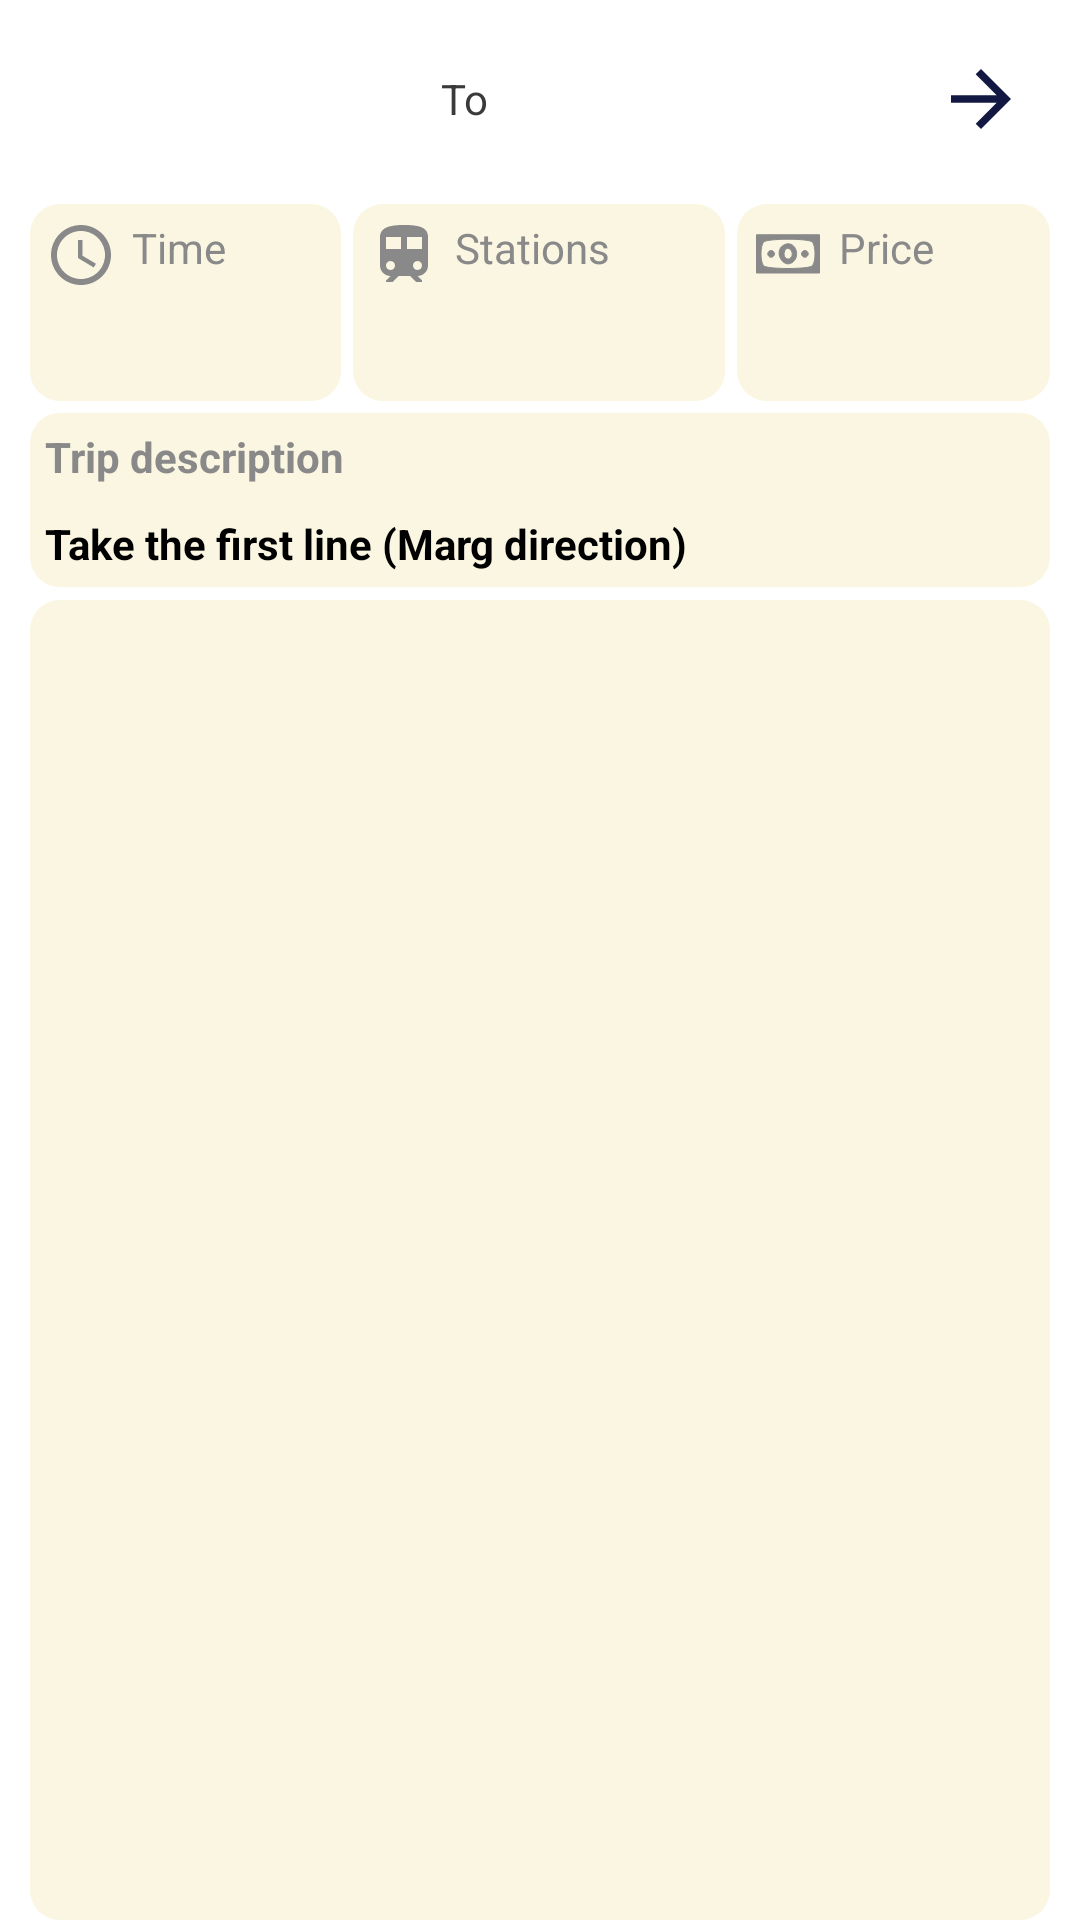

Locate icon controls on the screen. Image size 1080*1920, boxes as {"left": x1, "top": y1, "right": x2, "bottom": y2}.
money: {"left": 756, "top": 234, "right": 820, "bottom": 274}
train: {"left": 380, "top": 225, "right": 428, "bottom": 282}
